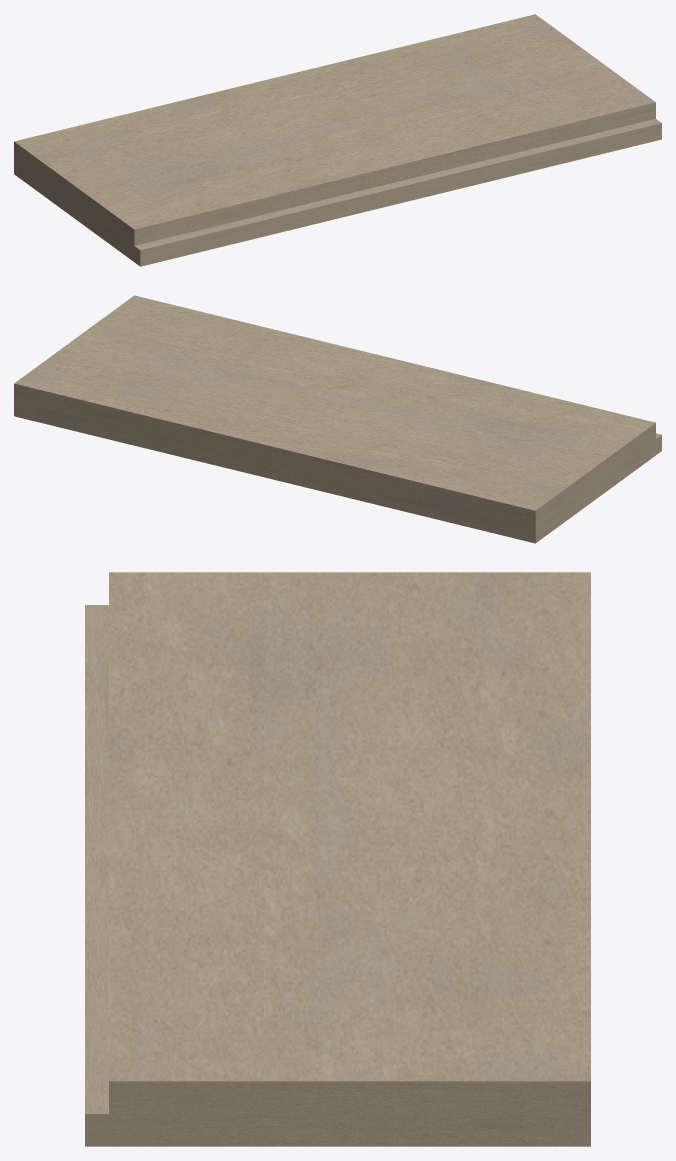
The model's file is Pool_EdgeStone.fbx.
3 views of the same model, one above another, from view 1: azimuth 30°, elevation 25°; view 2: azimuth 150°, elevation 25°; view 3: azimuth 270°, elevation 25° (orthographic). The views are drawn at different scales.
Parts seen in each view (by area): view 1: Pool_EdgeStone; view 2: Pool_EdgeStone; view 3: Pool_EdgeStone.
Boxes of the visible parts, x1,y1,x2,y2 form: Pool_EdgeStone: (14,14,661,266); Pool_EdgeStone: (14,295,661,543); Pool_EdgeStone: (85,572,590,1146).
Size of the model in its own units: 1 by 0.06 by 0.42.
